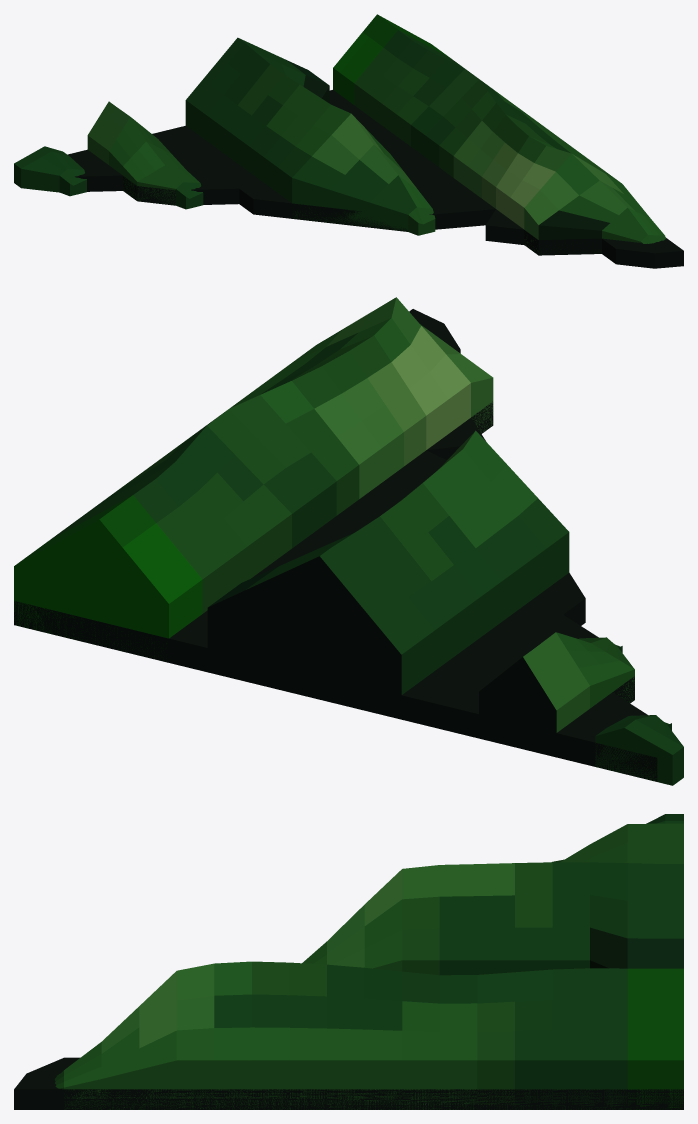
The model's file is newshj-267.glb.
3 renders of one model, top to bottom at view 1: azimuth 30°, elevation 25°; view 2: azimuth 150°, elevation 25°; view 3: azimuth 270°, elevation 25°, orthographic. The views are drawn at different scales.
Visible parts, largest first — view 1: newshj-267; view 2: newshj-267; view 3: newshj-267.
Boxes of the visible parts, x1=… form: newshj-267: x1=14, y1=14, x2=683, y2=268; newshj-267: x1=14, y1=297, x2=683, y2=785; newshj-267: x1=14, y1=814, x2=683, y2=1109.
Bounding box in the file's own units: 1.42 × 0.295 × 1.49.
